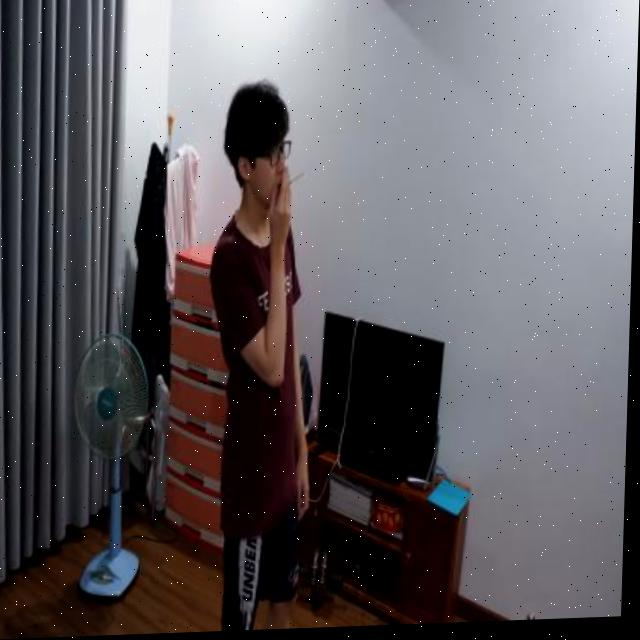cigarette: (289, 173, 306, 189)
